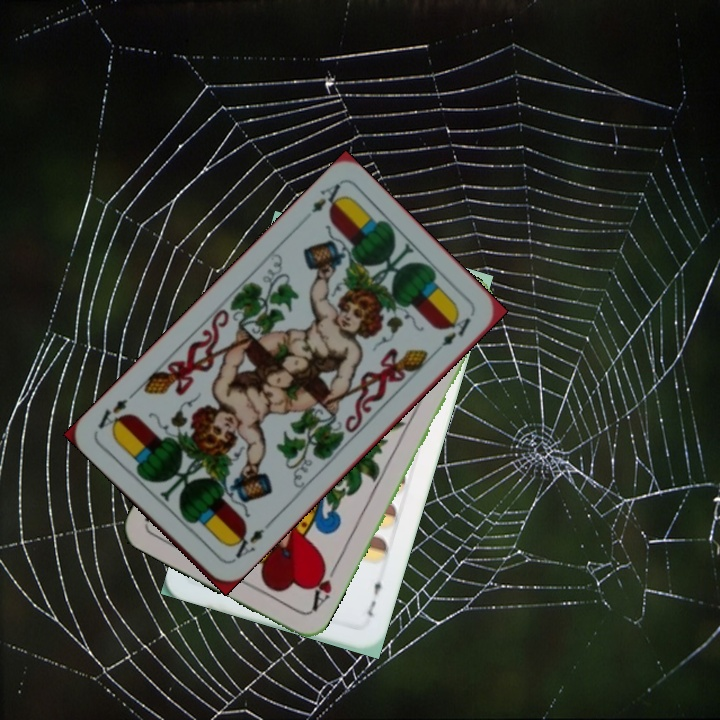E7: (363, 571, 387, 619)
EA: (225, 518, 274, 565), (307, 179, 349, 216)
HA: (307, 560, 341, 615)
